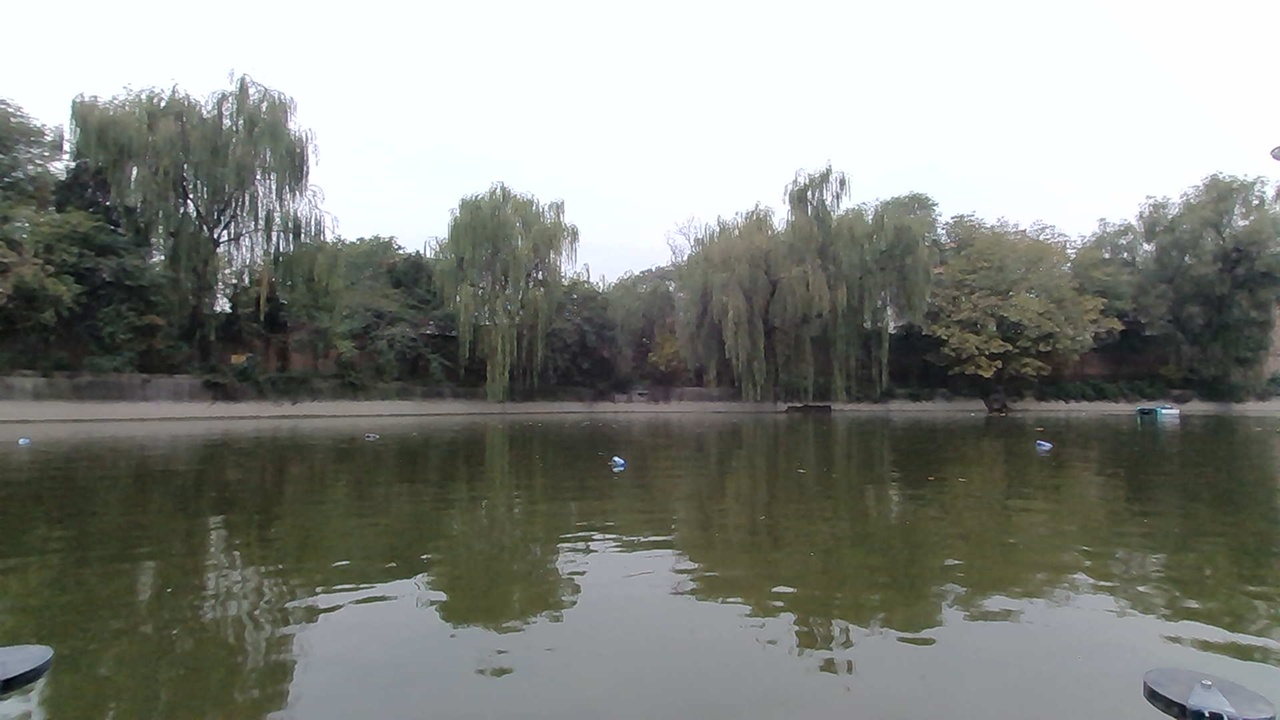bottle: (587, 449, 632, 476), (7, 431, 43, 463), (377, 422, 410, 445), (1030, 433, 1061, 457)
